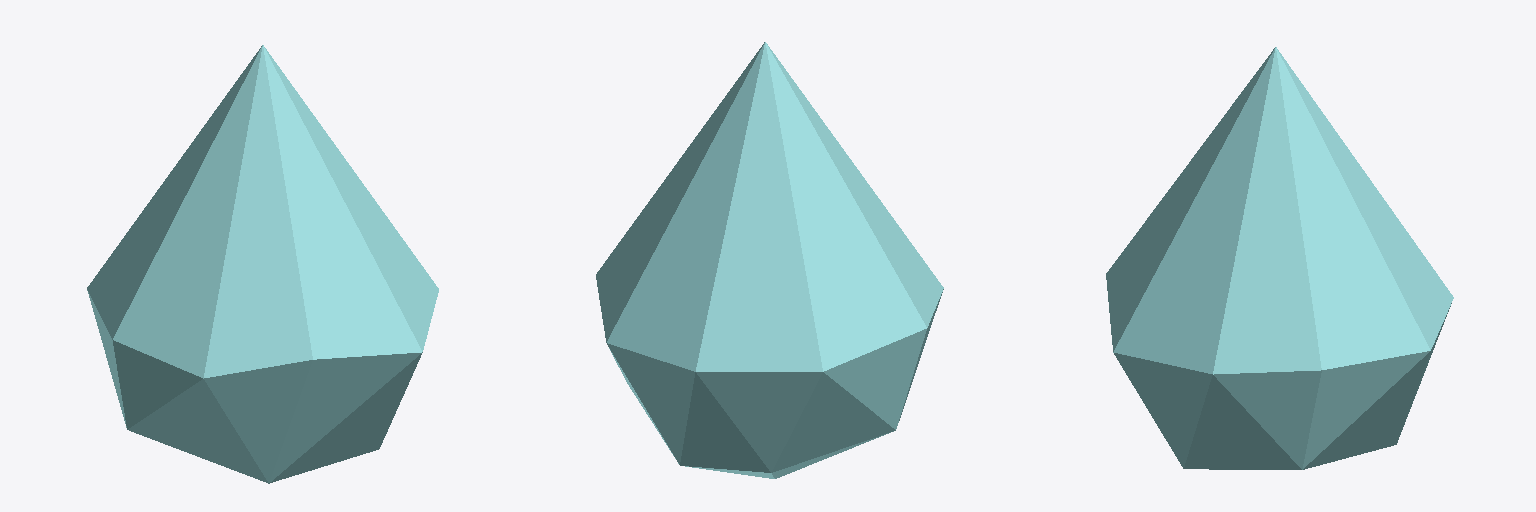
3 views of the same model, side by side, from view 1: azimuth 30°, elevation 25°; view 2: azimuth 150°, elevation 25°; view 3: azimuth 270°, elevation 25° (orthographic).
Visible parts, largest first — view 1: Standard_Drop; view 2: Standard_Drop; view 3: Standard_Drop.
Part boxes in pixels (x1,y1,x2,y2): Standard_Drop: (87, 45, 438, 483); Standard_Drop: (596, 42, 943, 478); Standard_Drop: (1106, 47, 1453, 469).
Bounding box in the file's own units: 59.98 × 80.23 × 59.7.
Materials: 1 (1 with a texture image).